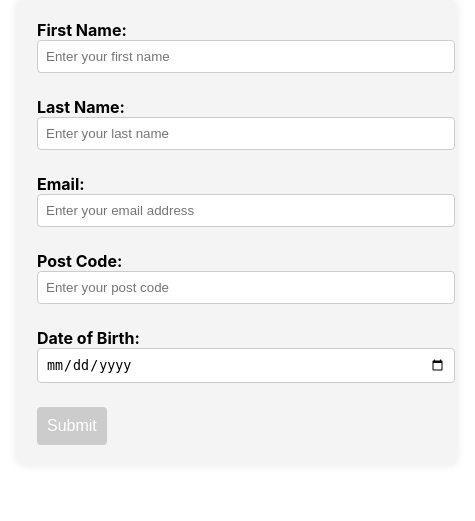
Test: handleSubmission displays error message and alert for invalid last name
This screenshot has width=475, height=521.
Type "John" into the field labelled "First Name:" at (246, 56), box [37, 40, 455, 73]
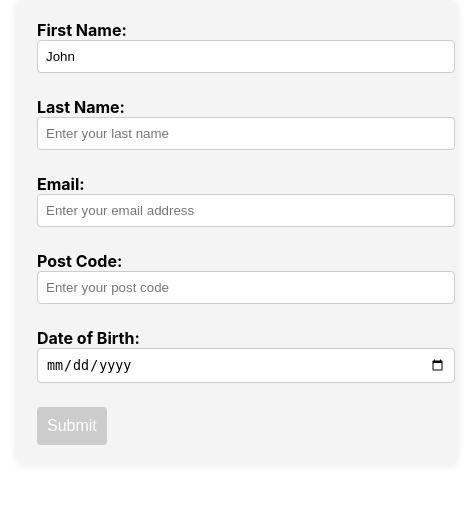
Type "Doe&" into the field labelled "Last Name:" at (246, 134), box [37, 117, 455, 150]
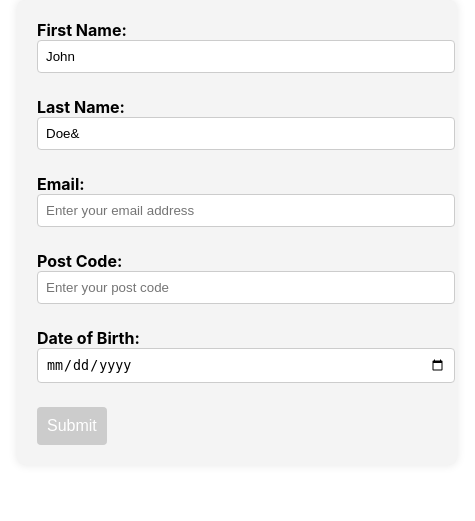
Type "test@test.com" into the field labelled "Email:" at (246, 210), box [37, 194, 455, 227]
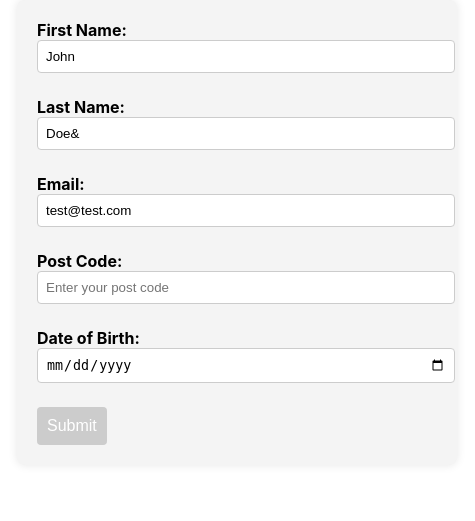
Type "12345" into the field labelled "Post Code:" at (246, 288), box [37, 271, 455, 304]
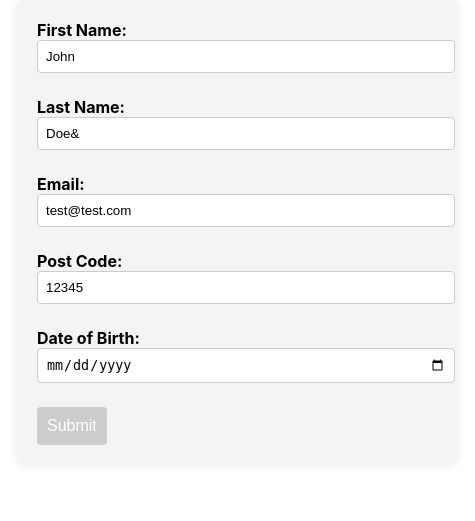
Type "1990-01-01" into the date field labelled "Date of Birth:" at (246, 366), box [37, 348, 455, 383]
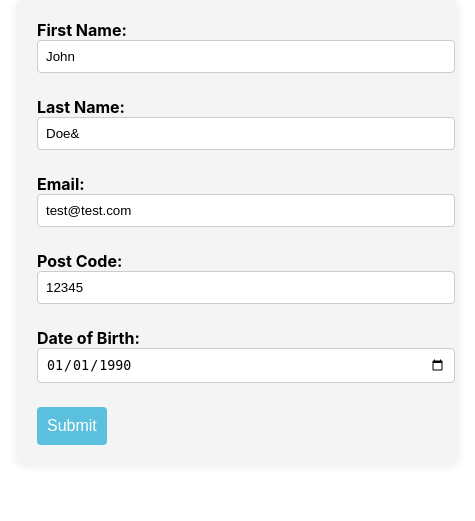
Click the button "Submit" at (72, 426), box [37, 407, 107, 445]
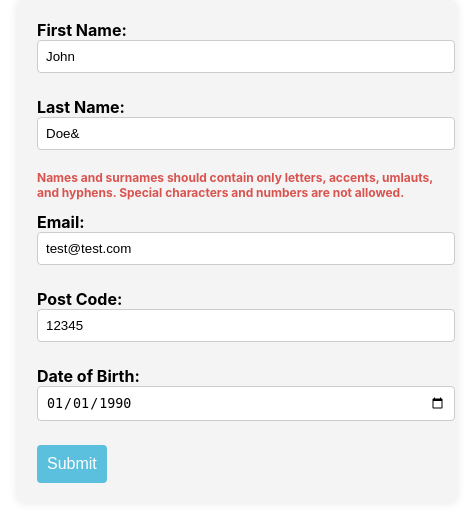
Now the text with test id "errorLastName" is shown, box [37, 170, 437, 200]
Now the text with test id "errorLastName" shows "Names and surnames should contain only letters, accents, umlauts, and hyphens. Special characters and numbers are not allowed.", box [37, 170, 433, 200]
